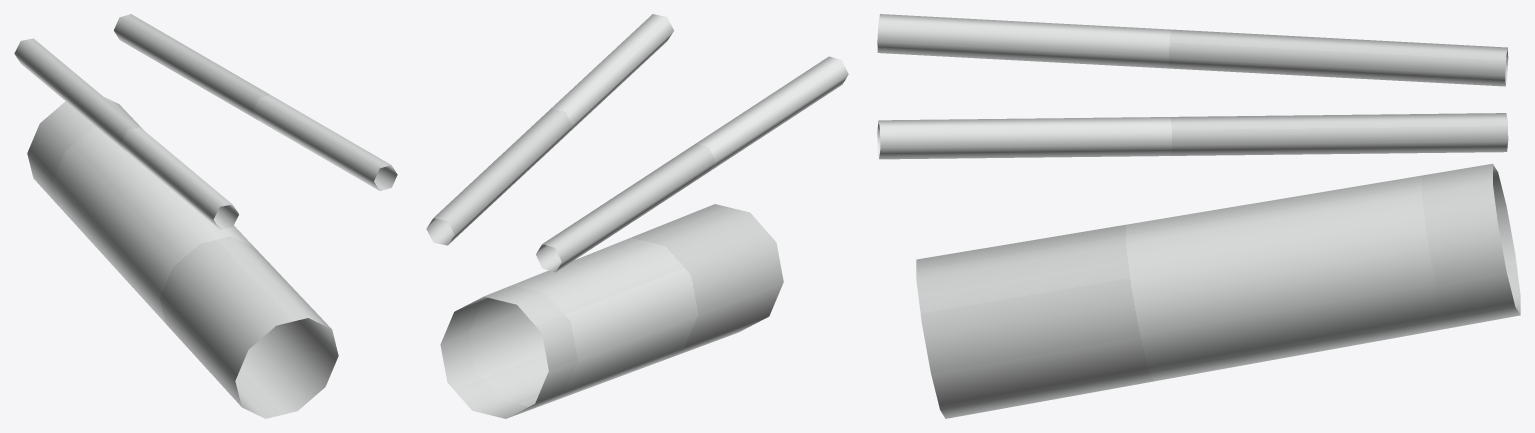
Rendered from nycsignalarm_regular8_c14.obj.
3 renders of one model, left to right at view 1: azimuth 30°, elevation 25°; view 2: azimuth 150°, elevation 25°; view 3: azimuth 270°, elevation 25°, orthographic. The views are drawn at different scales.
Parts seen in each view (by area): view 1: nycsignalarm_regular8_c14; view 2: nycsignalarm_regular8_c14; view 3: nycsignalarm_regular8_c14.
Part boxes in pixels (bbox=[...]): nycsignalarm_regular8_c14: bbox=[14, 14, 397, 418]; nycsignalarm_regular8_c14: bbox=[426, 14, 848, 418]; nycsignalarm_regular8_c14: bbox=[877, 14, 1520, 418].
Size of the model in its own units: 0.4631 by 0.5923 by 1.02.
